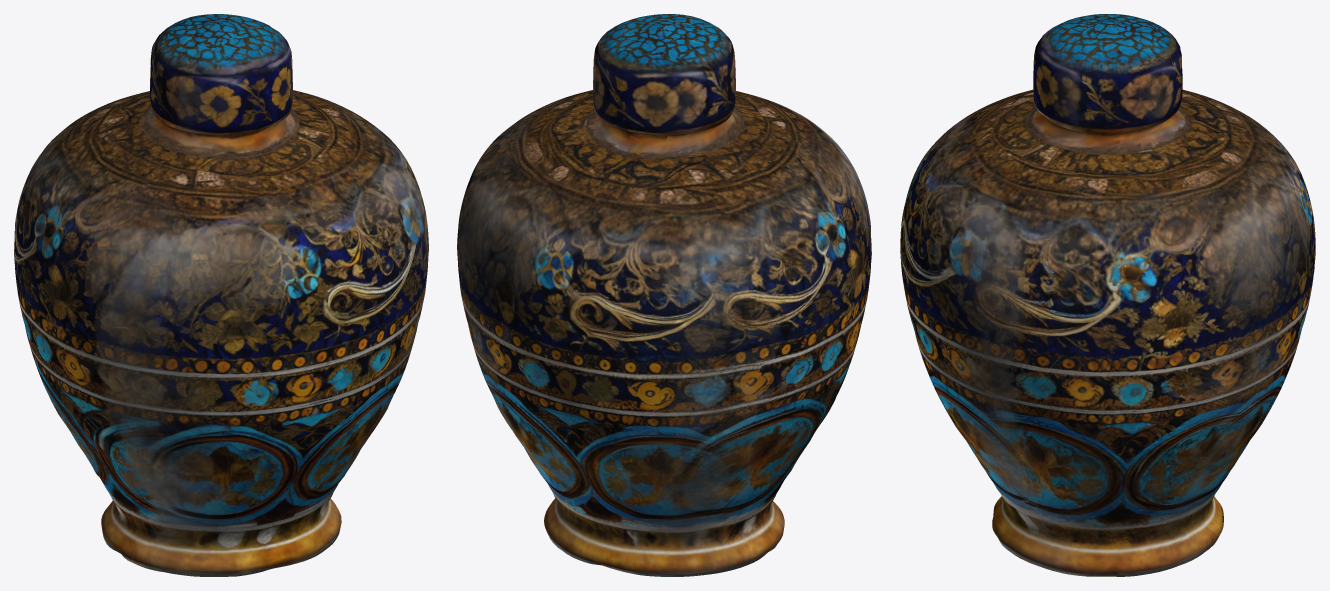
The model's file is Enchanted_Bloom_Vase_0414172734_texture.glb.
The picture shows the model from 3 angles, left to right: view 1: azimuth 30°, elevation 25°; view 2: azimuth 150°, elevation 25°; view 3: azimuth 270°, elevation 25°; orthographic projection.
Size of the model in its own units: 1.49 by 1.99 by 1.49.
Materials: 1 (1 with a texture image).
